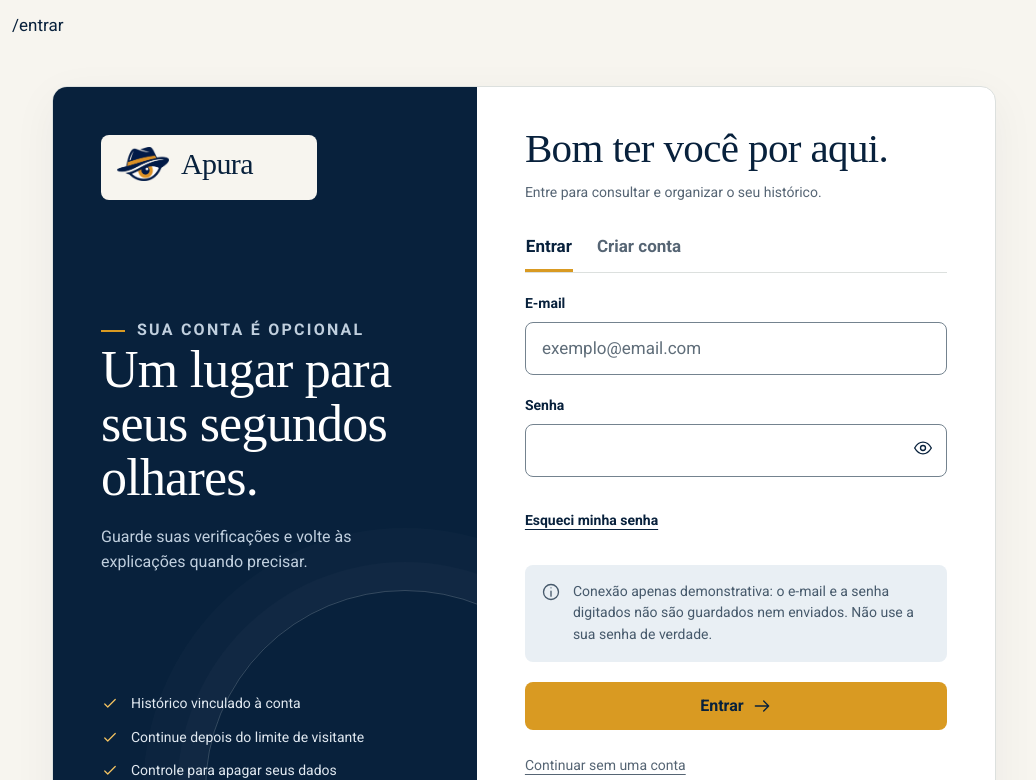
entrar › permite colar a senha (gerenciadores de senha; WCAG 3.3.8)
The image size is (1036, 780).
Click the password field labelled "Senha" at (736, 451), box [525, 424, 947, 477]
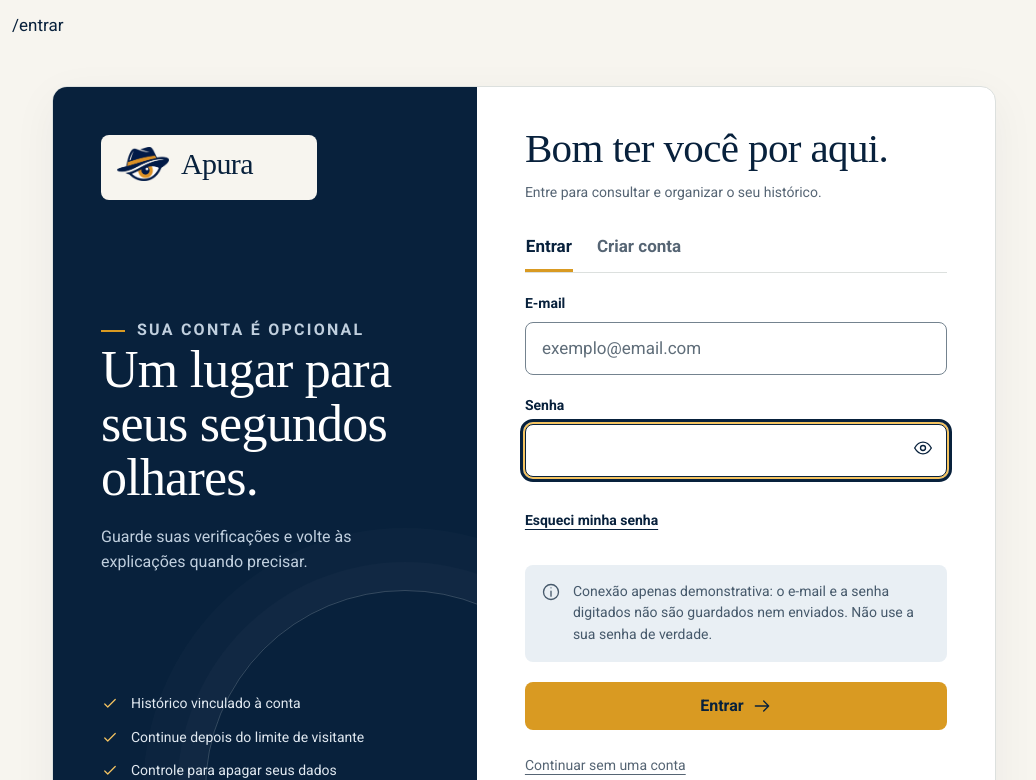
Type keys "uma-senha-longa-1"
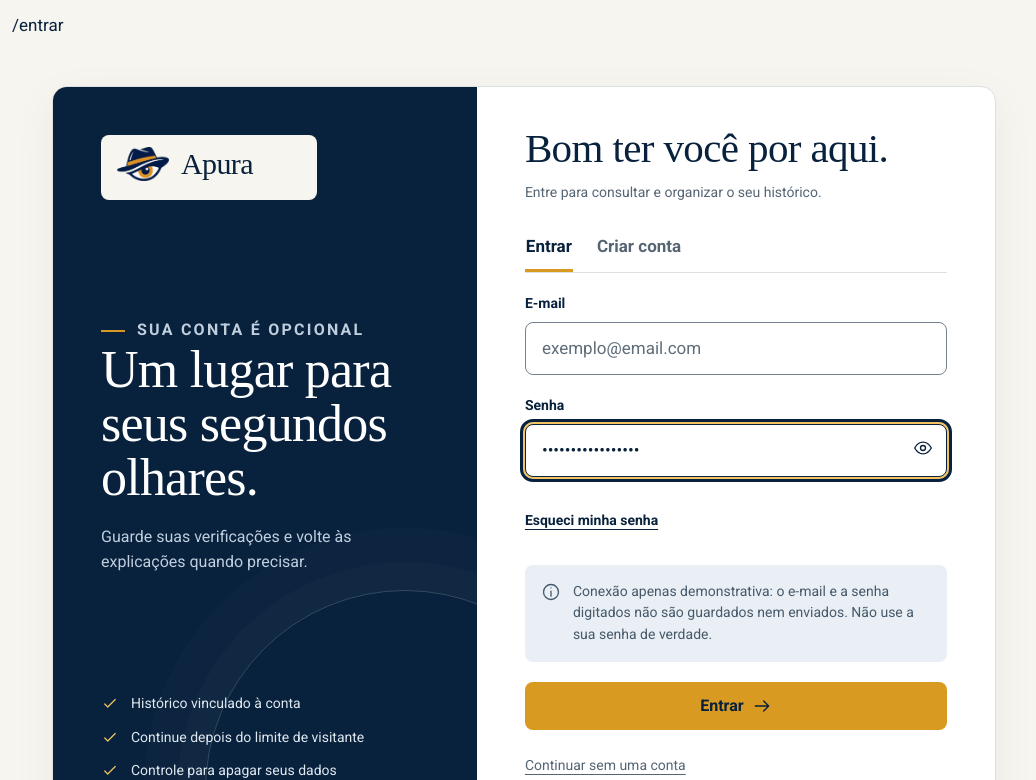
Expected: the password field labelled "Senha" holds "uma-senha-longa-1", [525, 424, 947, 477]
